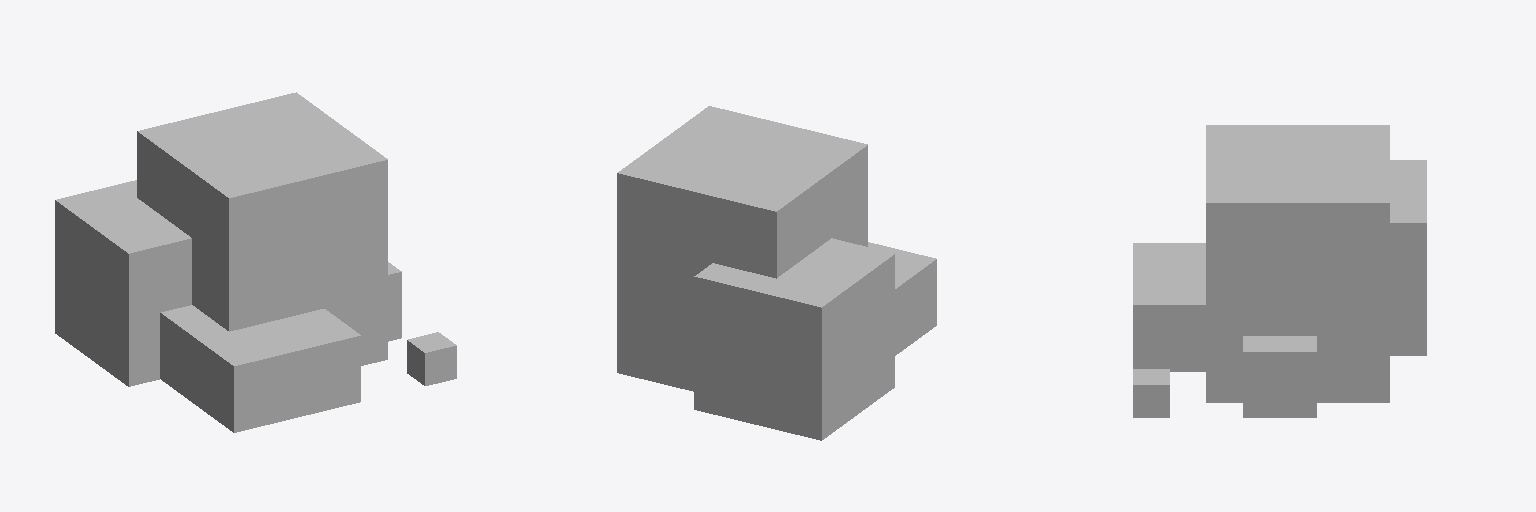
Rendered from IronOre.obj.
The picture shows the model from 3 angles: view 1: azimuth 30°, elevation 25°; view 2: azimuth 150°, elevation 25°; view 3: azimuth 270°, elevation 25°; orthographic projection.
Visible parts, largest first — view 1: object 1; view 2: object 1; view 3: object 1.
Boxes of the visible parts, x1=… form: object 1: x1=55, y1=92, x2=456, y2=432; object 1: x1=617, y1=106, x2=936, y2=440; object 1: x1=1133, y1=125, x2=1426, y2=417.
Bounding box in the file's own units: 0.8 × 0.6 × 0.8.